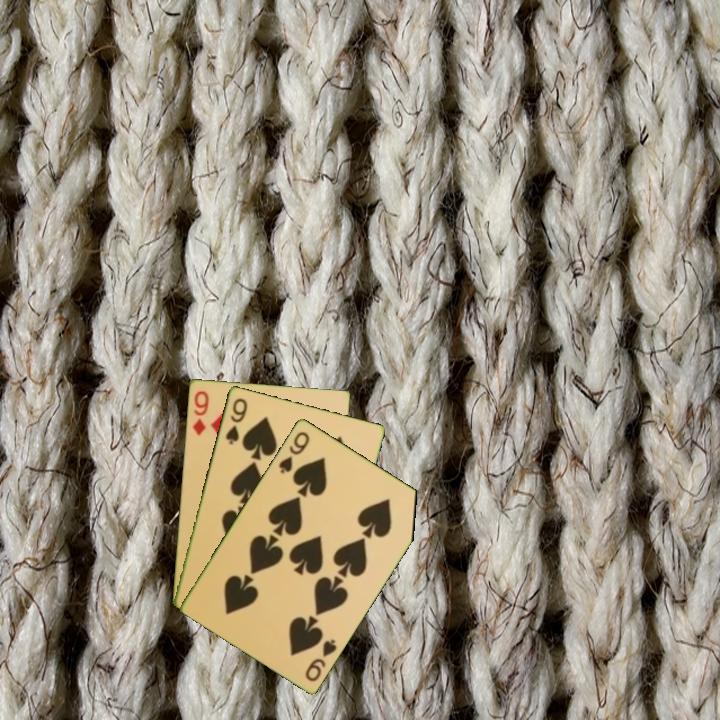9d: (189, 387, 211, 438)
9s: (301, 635, 340, 684), (275, 427, 312, 476), (222, 394, 250, 447)
